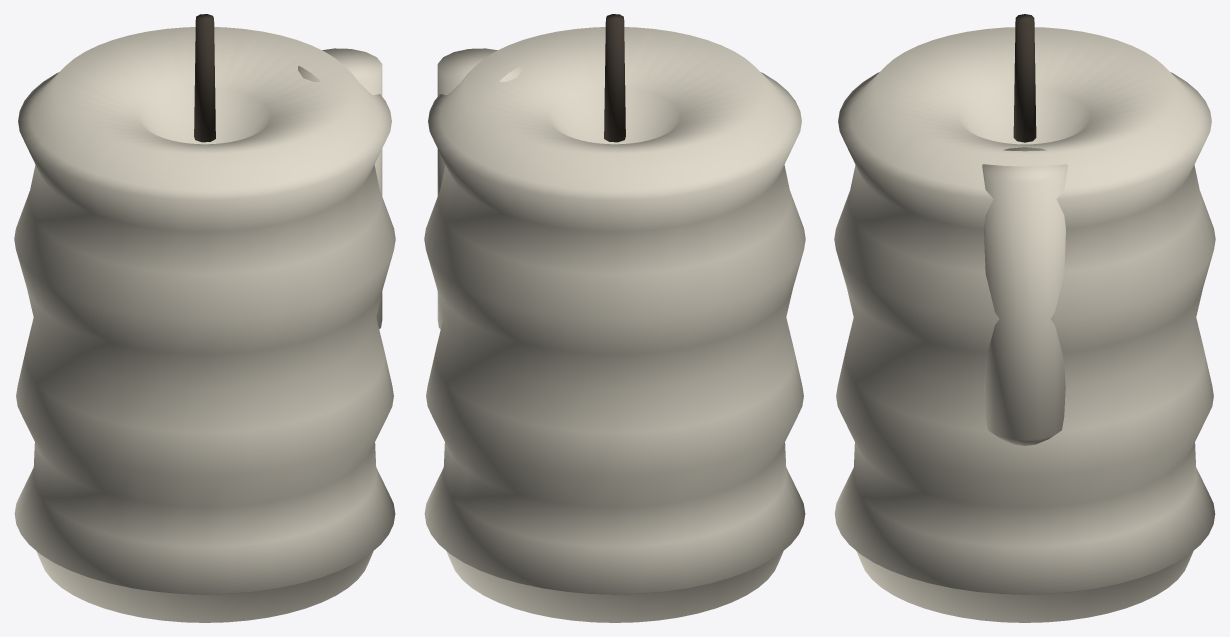
The model's file is candle_stub.glb.
3 renders of one model, left to right at view 1: azimuth 30°, elevation 25°; view 2: azimuth 150°, elevation 25°; view 3: azimuth 270°, elevation 25°, orthographic.
Visible parts, largest first — view 1: LOD0; view 2: LOD0; view 3: LOD0.
Boxes of the visible parts, x1,y1,x2,y2 form: LOD0: [14, 14, 395, 622]; LOD0: [424, 14, 805, 622]; LOD0: [834, 14, 1215, 622].
Size of what is drawn, in the model's own units: 0.0412 by 0.0625 by 0.0404.
